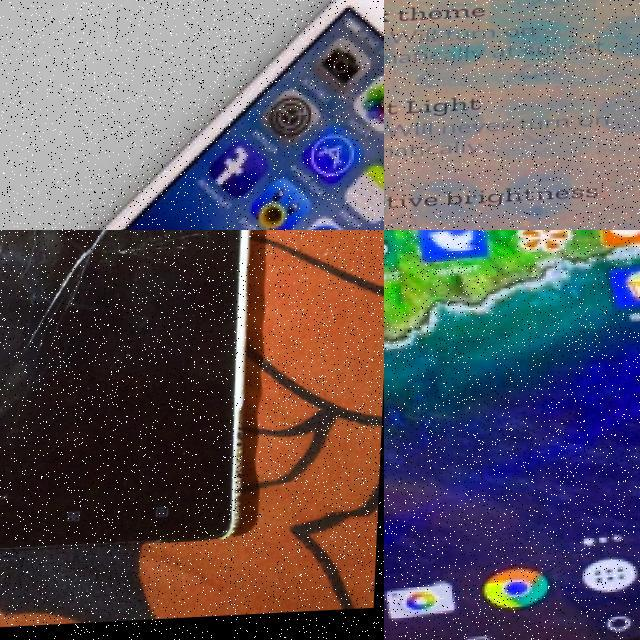screen crack: (0, 230, 163, 450)
